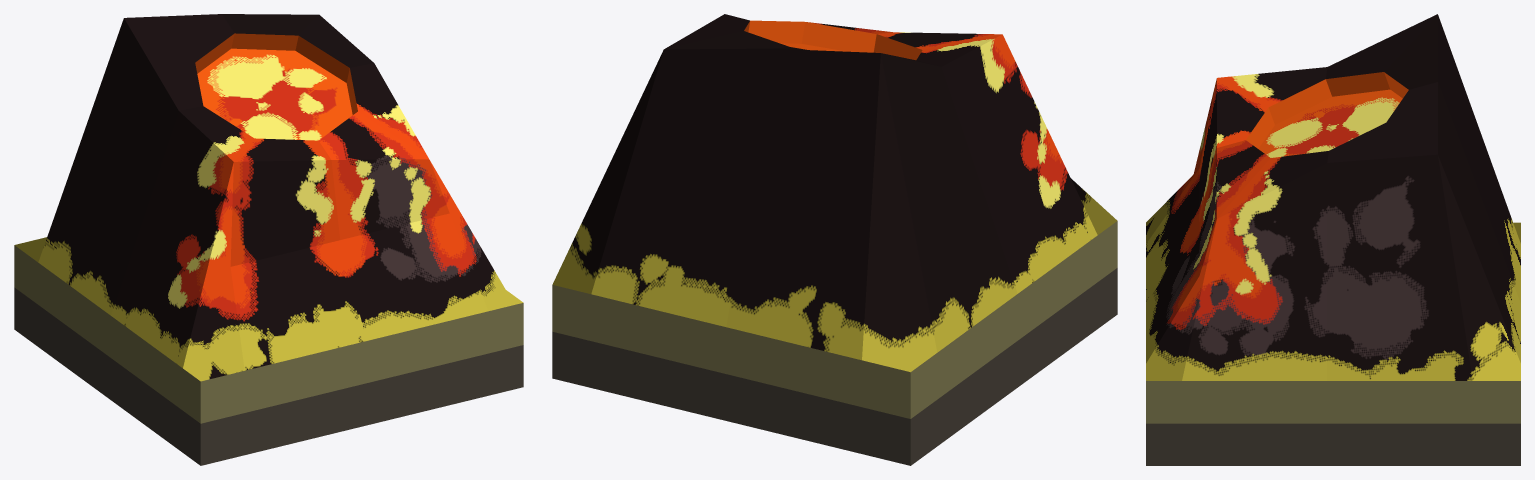
The model's file is tile1_1 Vulkano.fbx.
3 views of the same model, side by side, from view 1: azimuth 30°, elevation 25°; view 2: azimuth 150°, elevation 25°; view 3: azimuth 270°, elevation 25° (orthographic). The views are drawn at different scales.
Parts seen in each view (by area): view 1: Cube; view 2: Cube; view 3: Cube.
Boxes of the visible parts, box(x1,y1,x2,y2) form: Cube: box(14, 14, 523, 465); Cube: box(552, 14, 1117, 465); Cube: box(1146, 14, 1520, 465).
Bounding box in the file's own units: 200 × 192 × 200.
Materials: 1 (1 with a texture image).
